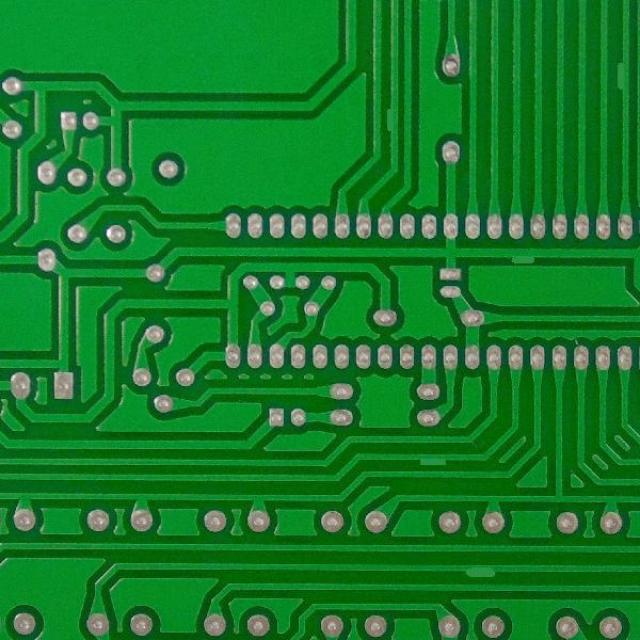Spur: (459, 559, 500, 582), (503, 243, 541, 267), (612, 54, 633, 97), (415, 450, 451, 469), (383, 104, 402, 136)
